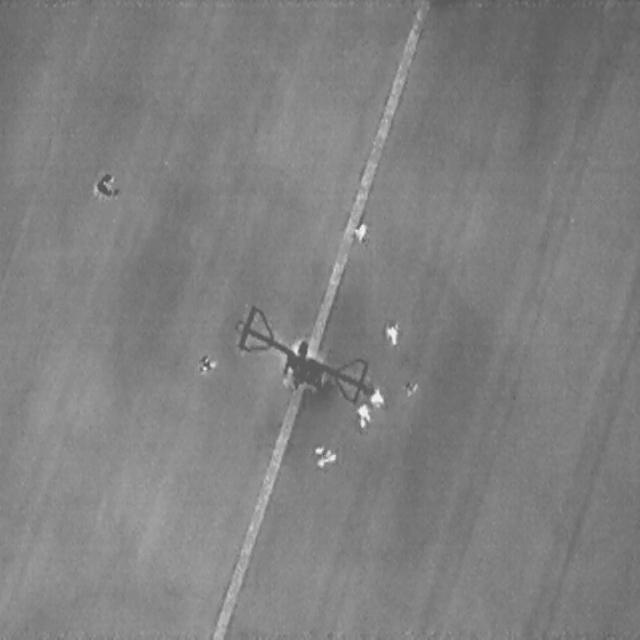Person: (92, 172, 120, 198), (314, 444, 337, 468), (350, 218, 370, 244), (196, 353, 218, 375), (369, 385, 385, 410), (355, 400, 369, 428), (384, 320, 396, 346), (402, 378, 417, 398)
